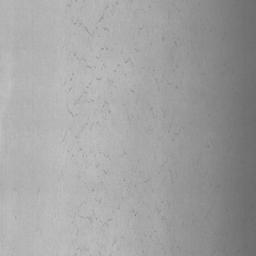Silk spot: (72, 20, 95, 36)
